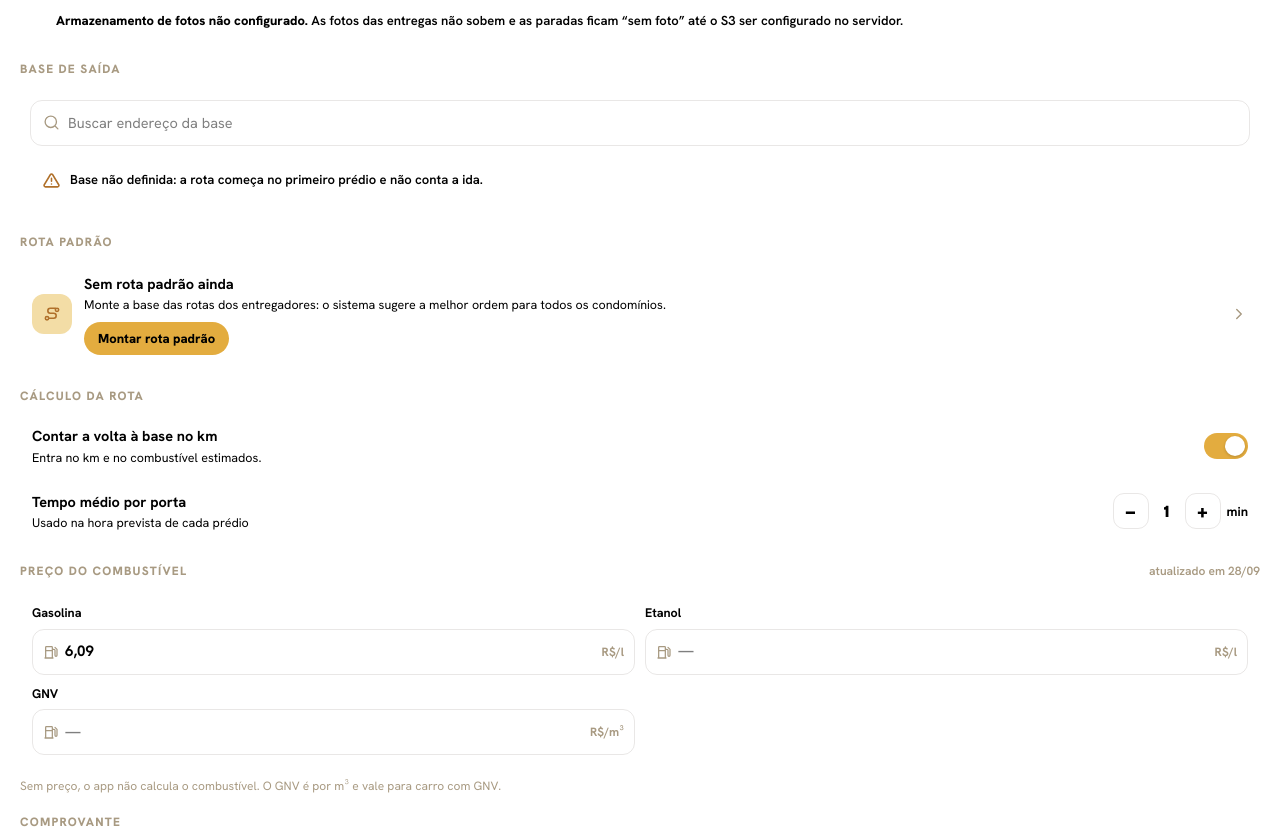
A5 · Rotas e comprovante › preço fora da faixa não salva
Replace the text in the field named "Preço do litro · Gasolina" with "99" at [330, 652], box left=65, top=640, right=596, bottom=663
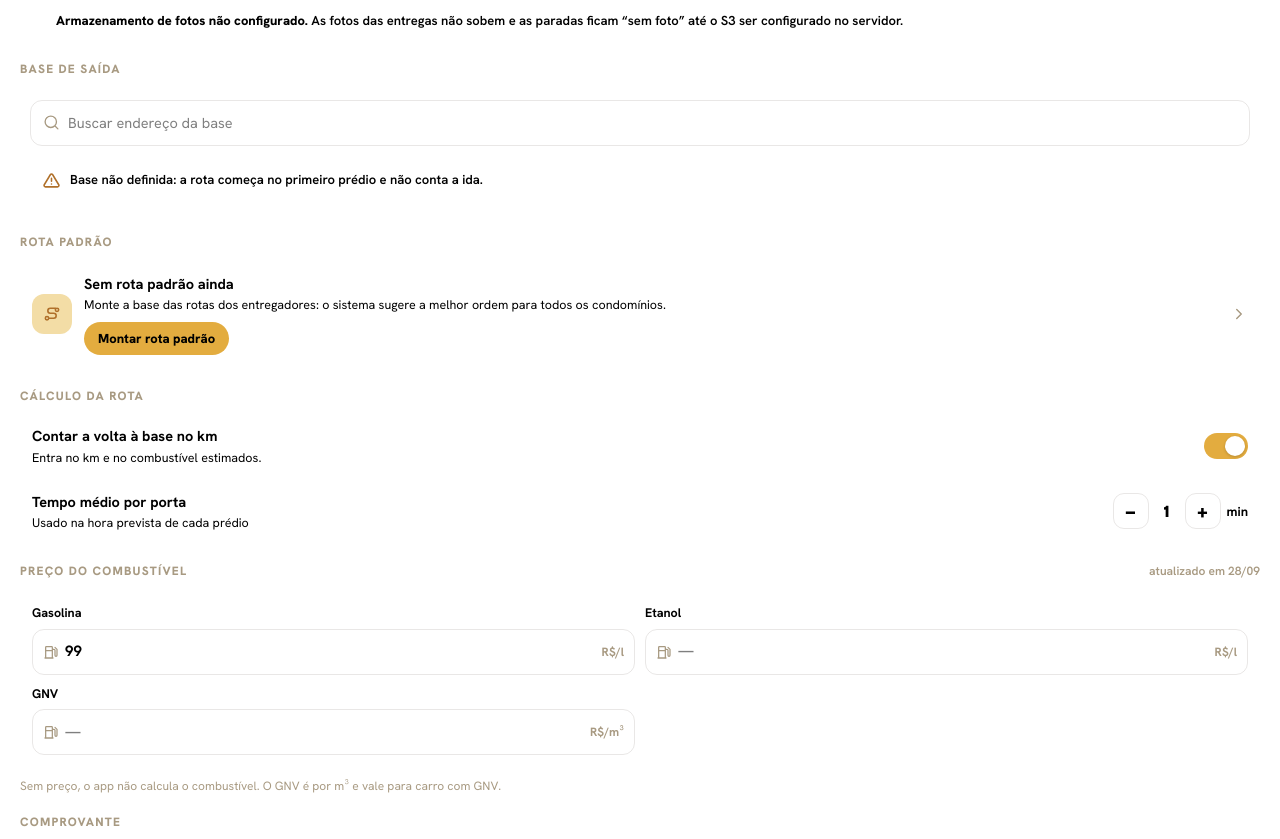
Click the button "Salvar".
click(640, 793)  # box left=16, top=767, right=1264, bottom=819
(page scrolled)
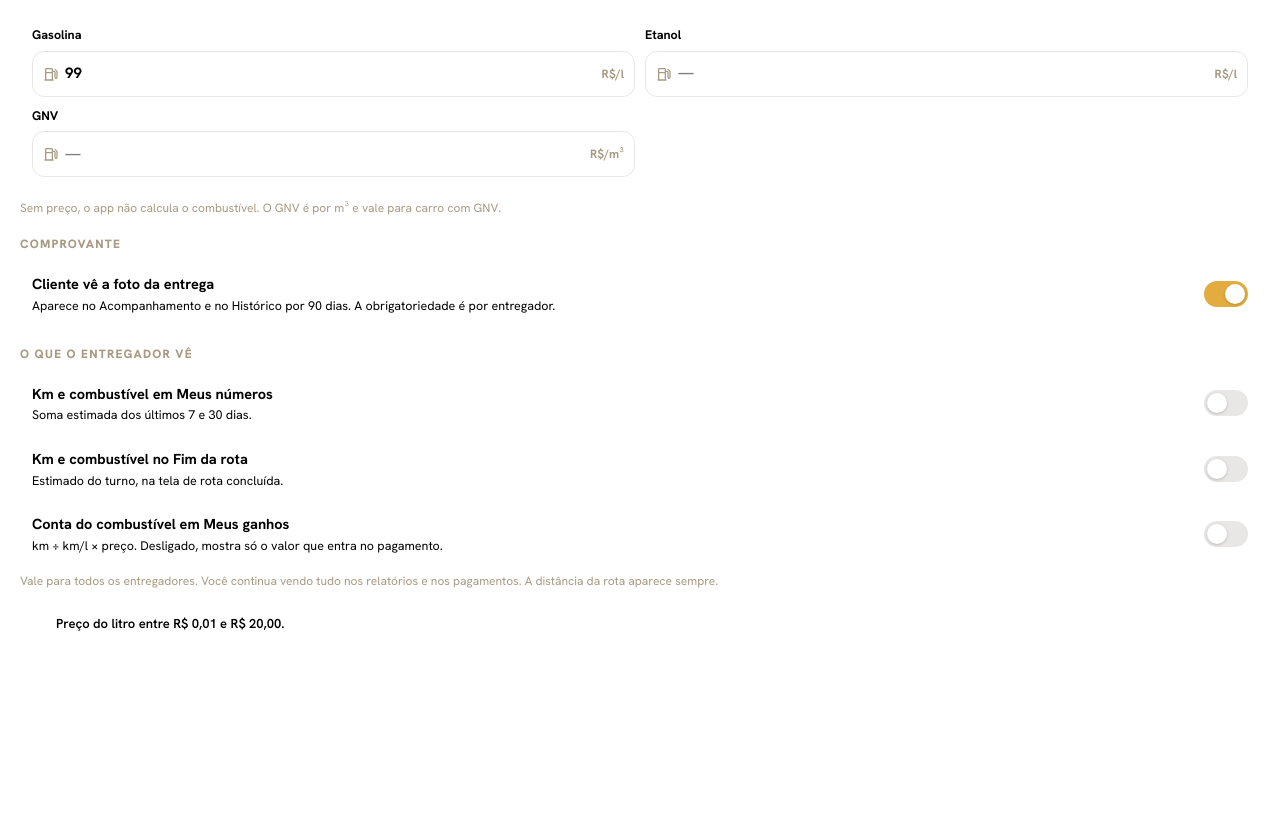
Check: the text "Preço do litro entre R$ 0,01 e R$ 20,00." is shown, box left=56, top=615, right=284, bottom=632
